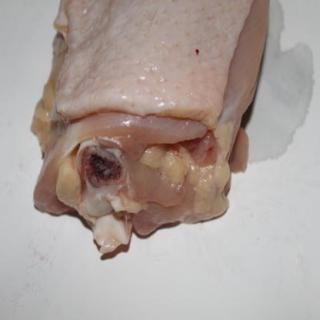Ayam: (34, 1, 270, 254)
